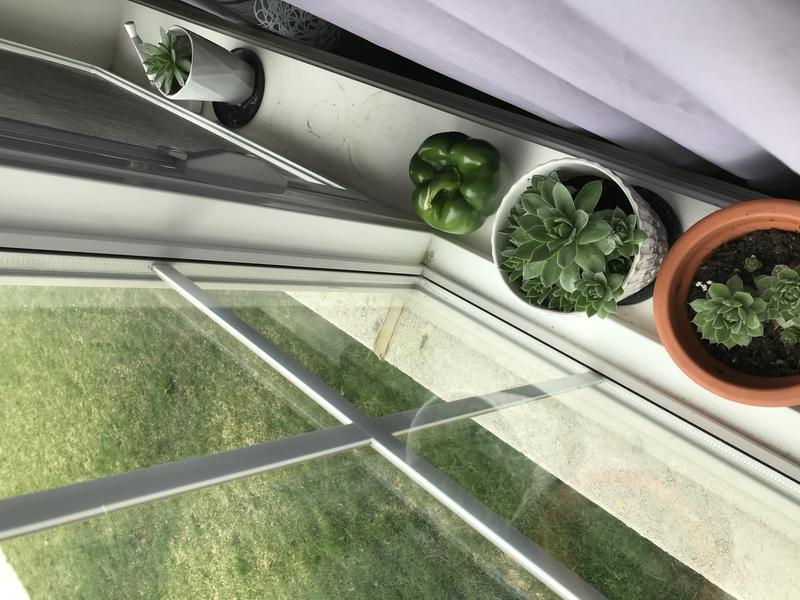green_pepper: (396, 122, 513, 243)
